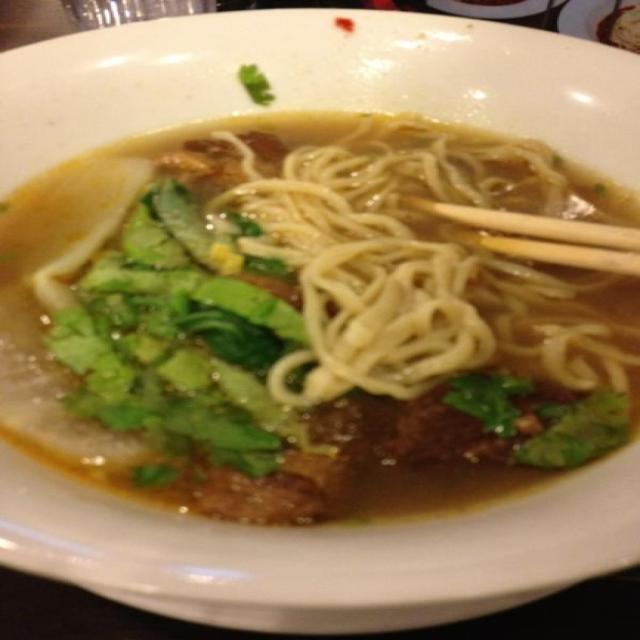面条主食: (18, 71, 615, 562)
